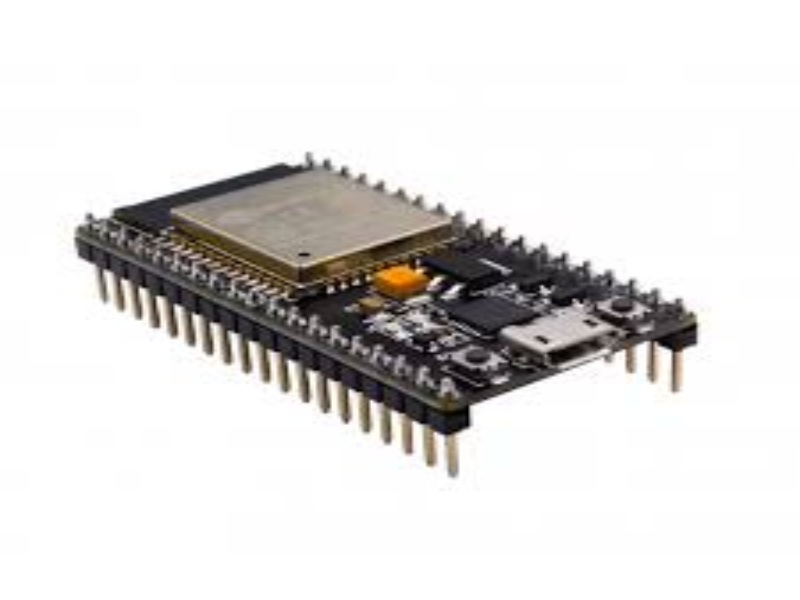esp32: (54, 124, 729, 506)
